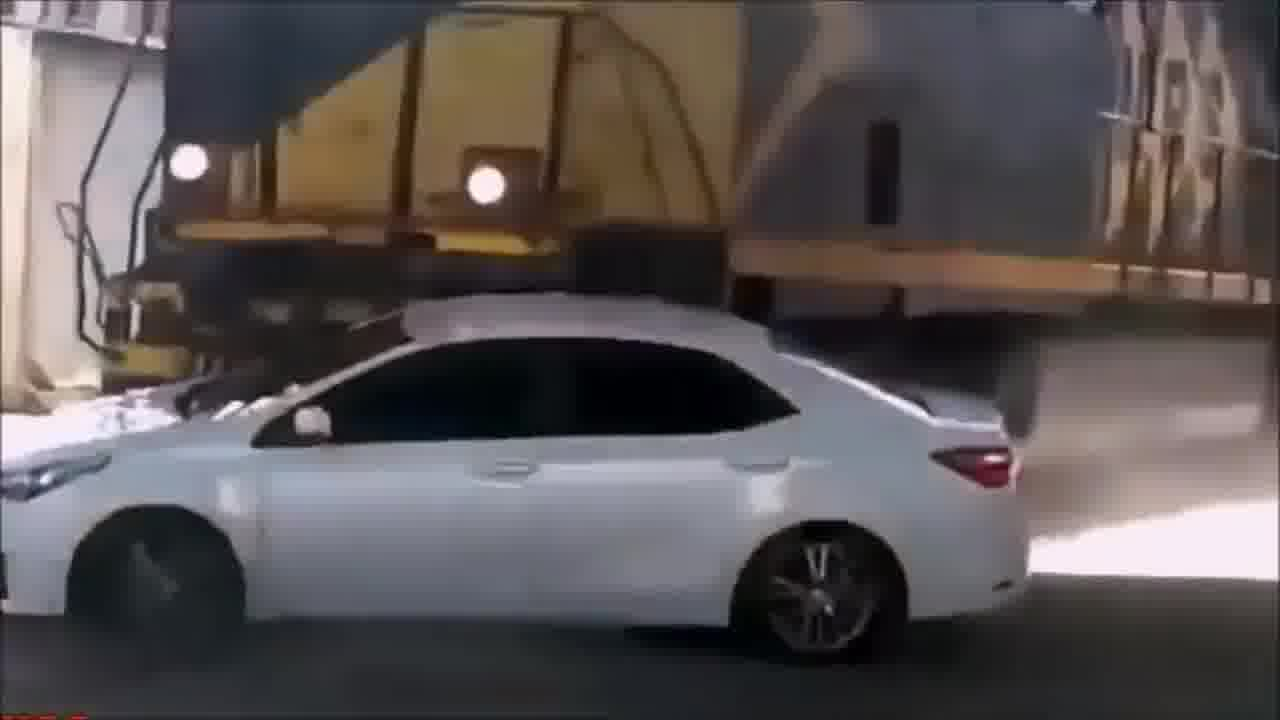crossing railway track: (11, 208, 1079, 647)
